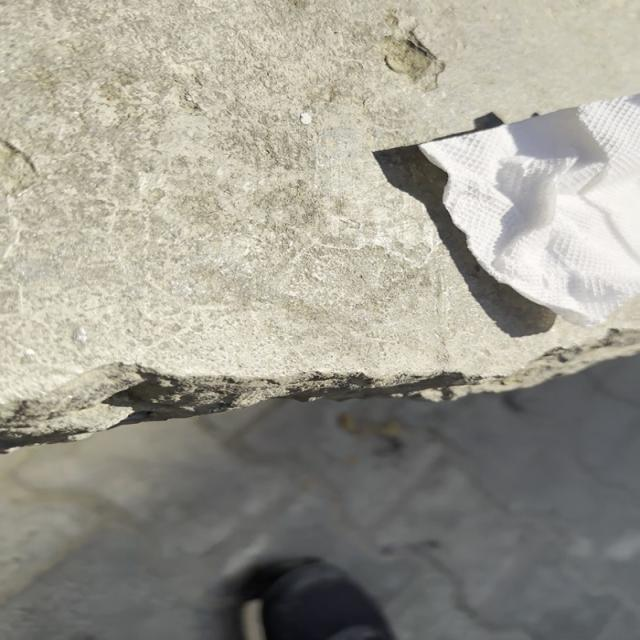tissue: (417, 88, 640, 327)
